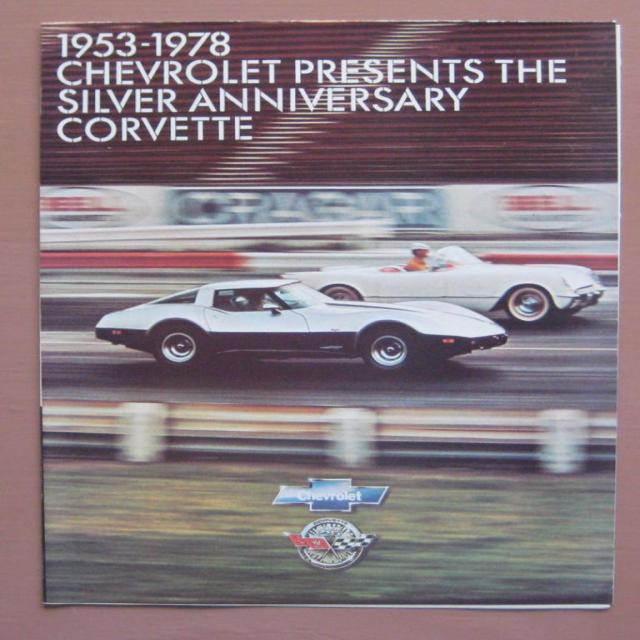car: (102, 264, 486, 387)
